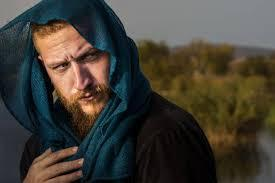scarf-kerchief: (1, 0, 158, 142)
